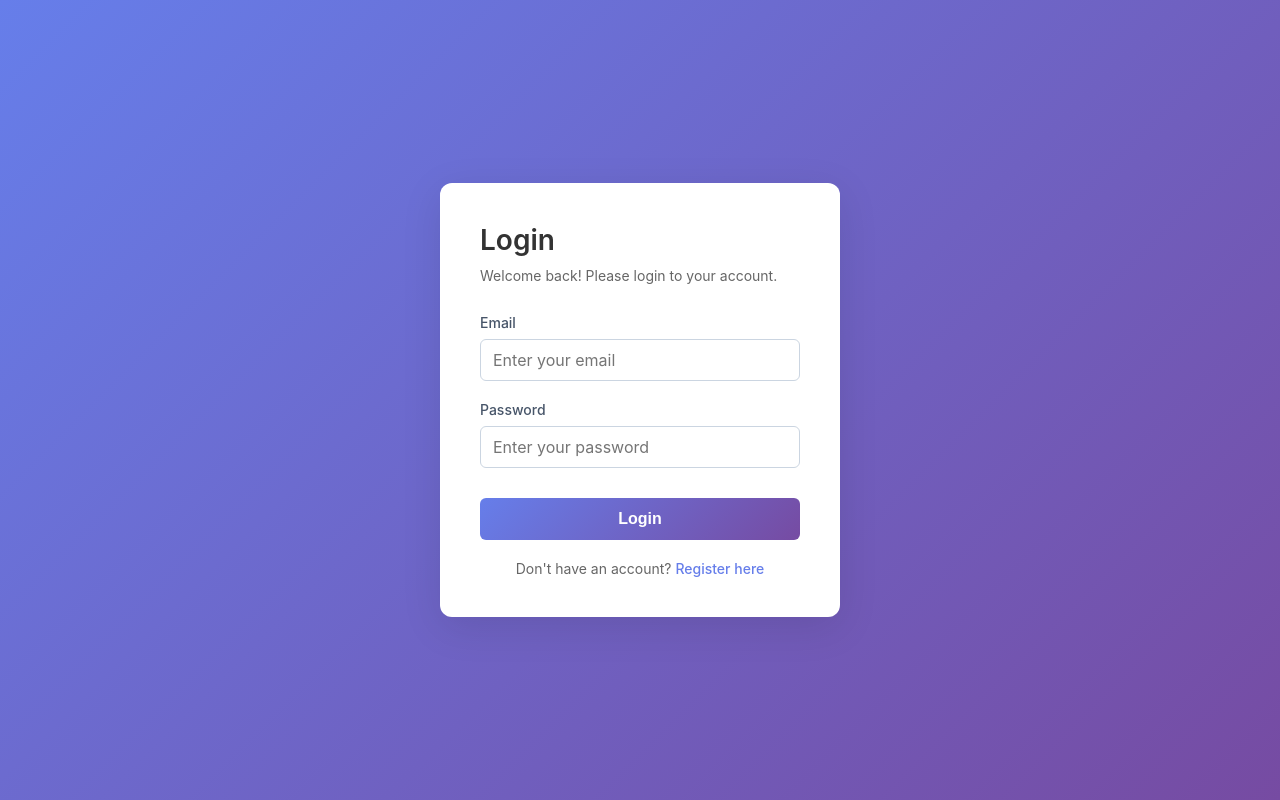
Scenario: Login › disables form during submission
The image size is (1280, 800).
Type "test@example.com" into the field labelled "Email" at (640, 360), box [480,339,800,381]
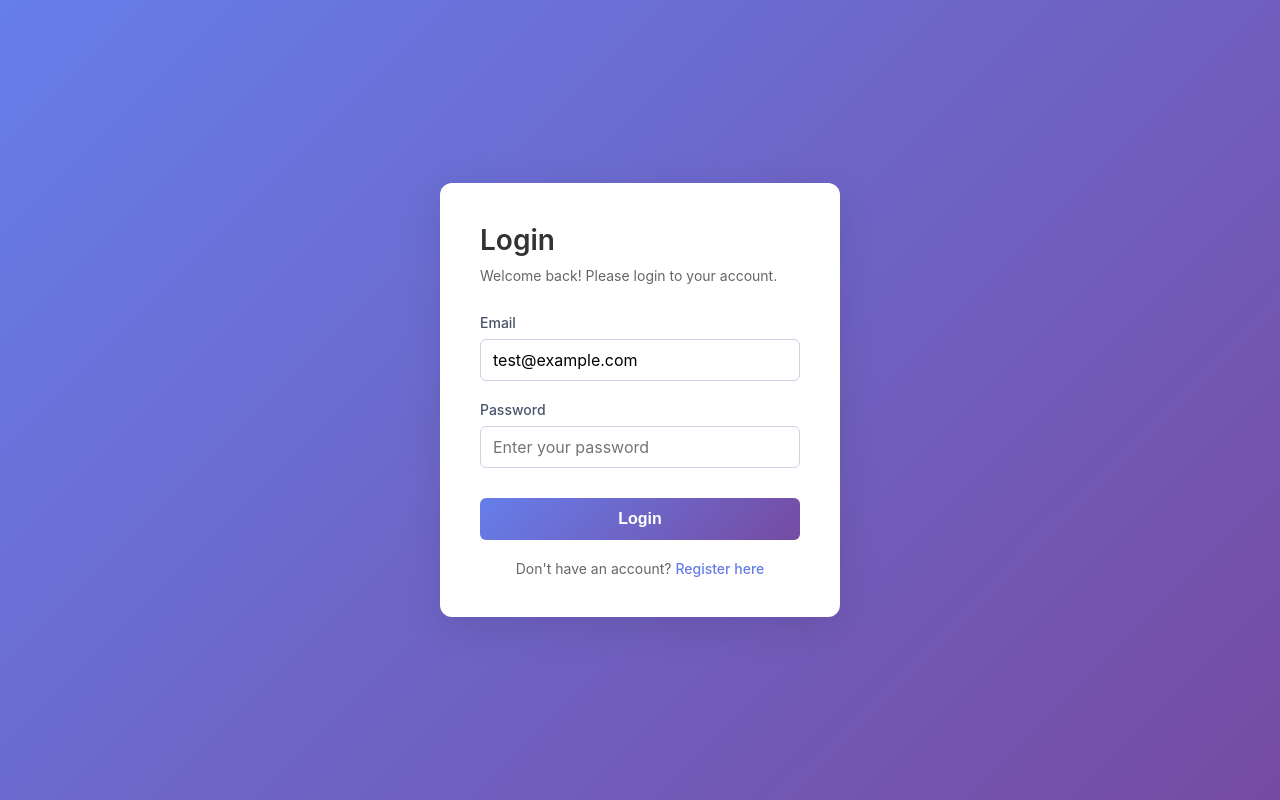
Type "password123" into the password field labelled "Password" at (640, 447), box [480,426,800,468]
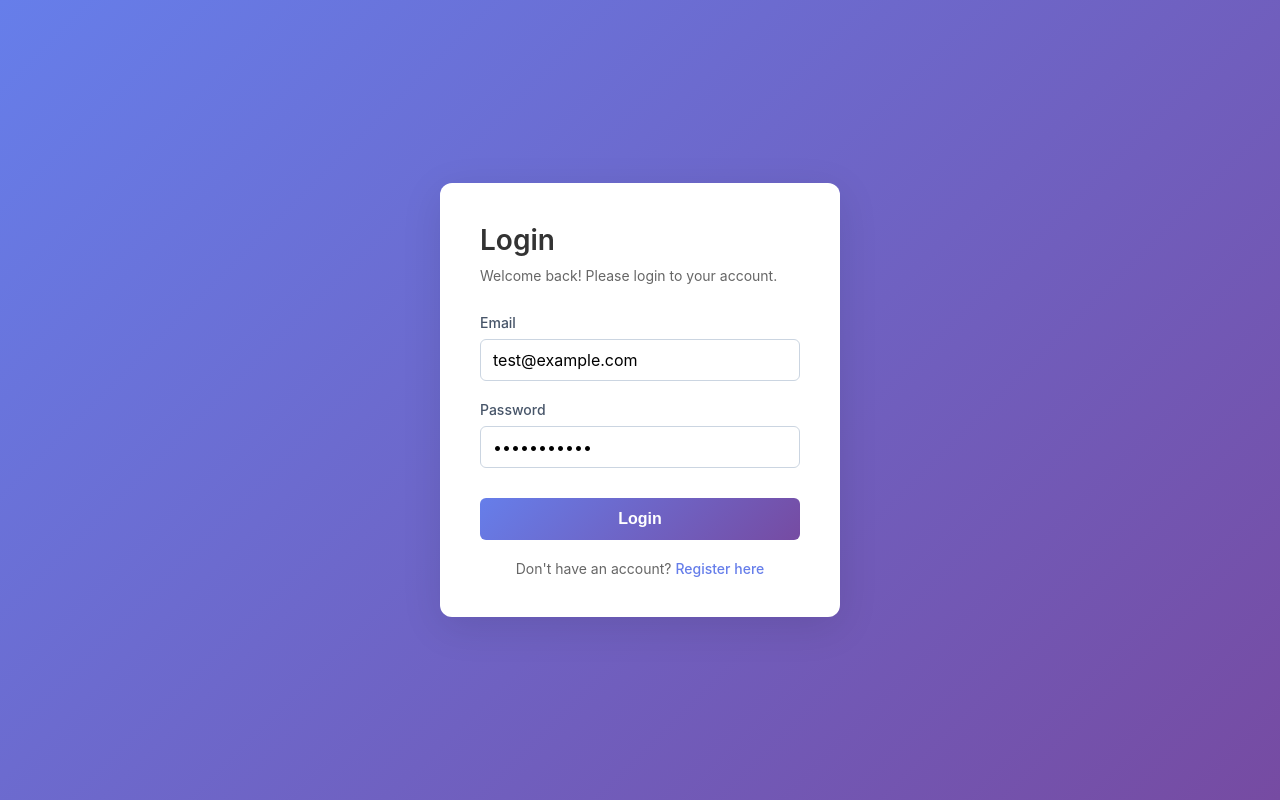
Click the button "Login" at (640, 519), box [480,498,800,540]
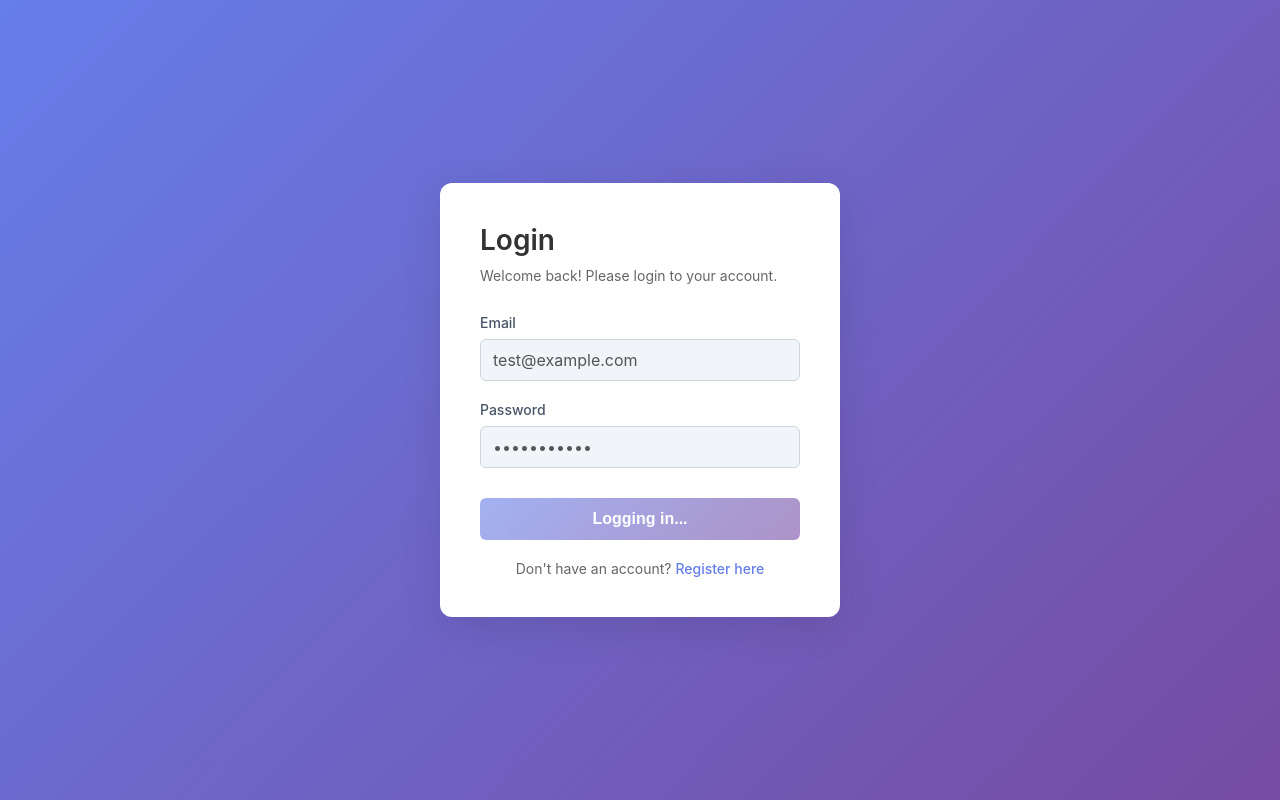
Check: the button named "login" is disabled, box [480,498,800,540]
Check: the field labelled "Email" is disabled, box [480,339,800,381]
Check: the password field labelled "Password" is disabled, box [480,426,800,468]
